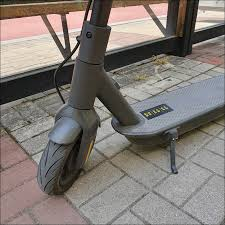kick_wheel: (36, 110, 100, 194)
